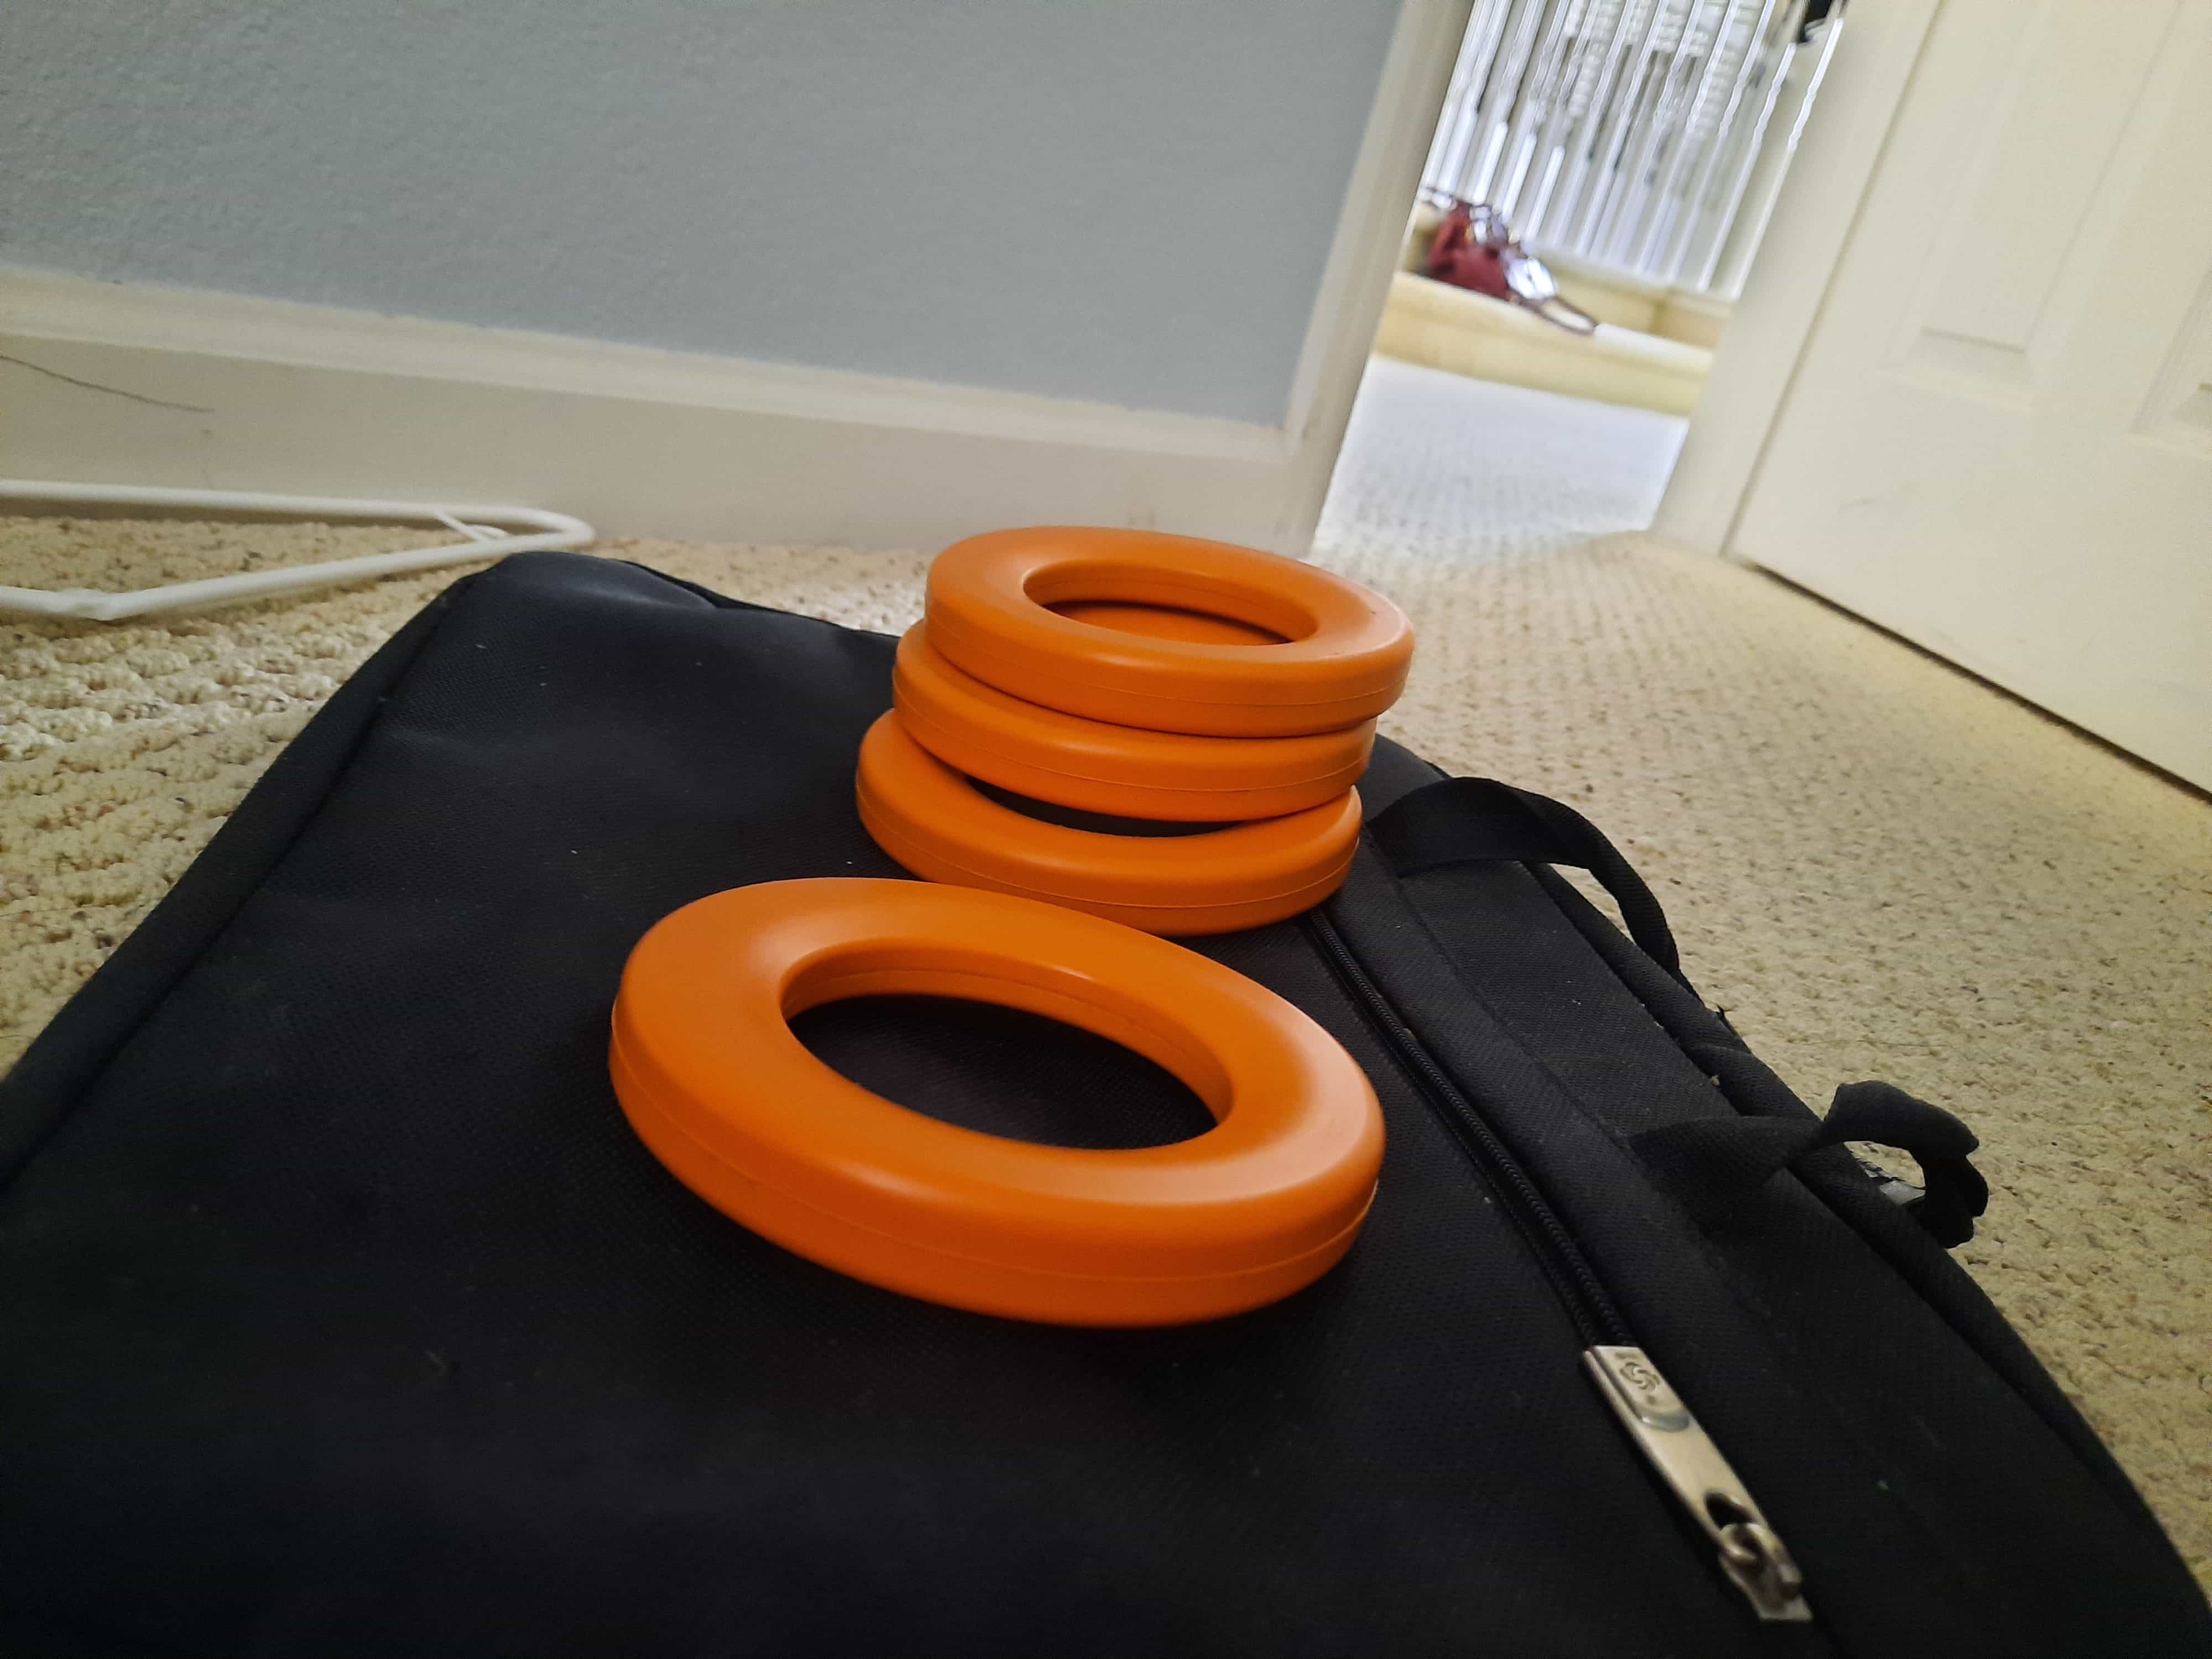FourStack: (855, 512, 1414, 927)
OneStack: (627, 875, 1388, 1326)
